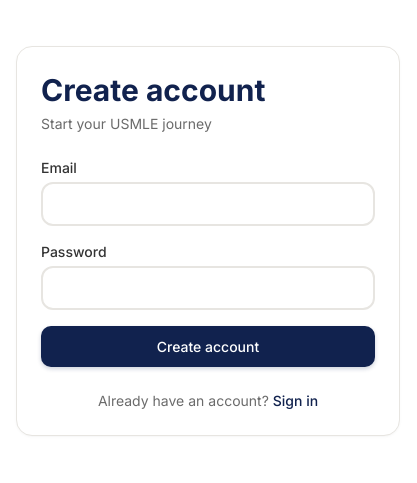
SignupPage › signs up and shows confirmation message on success
In the field: x=208, y=204 [41,182,375,226], type "jim@example.com"
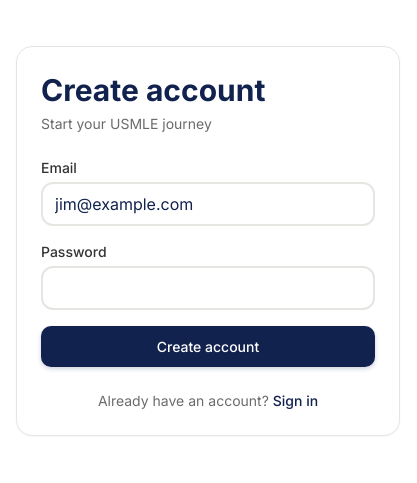
In the password field: x=208, y=288 [41,266,375,310], type "secret123"
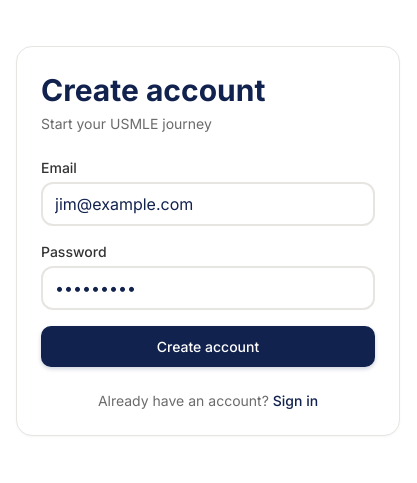
Click the button "Create account": x=208, y=347 [41,326,375,368]
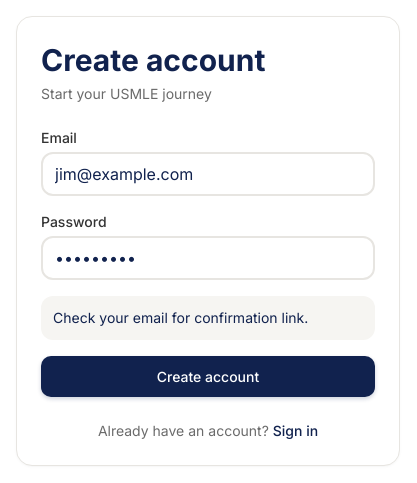
Expected: the text "Check your email for confirmation link." is shown, [41,296,375,340]
